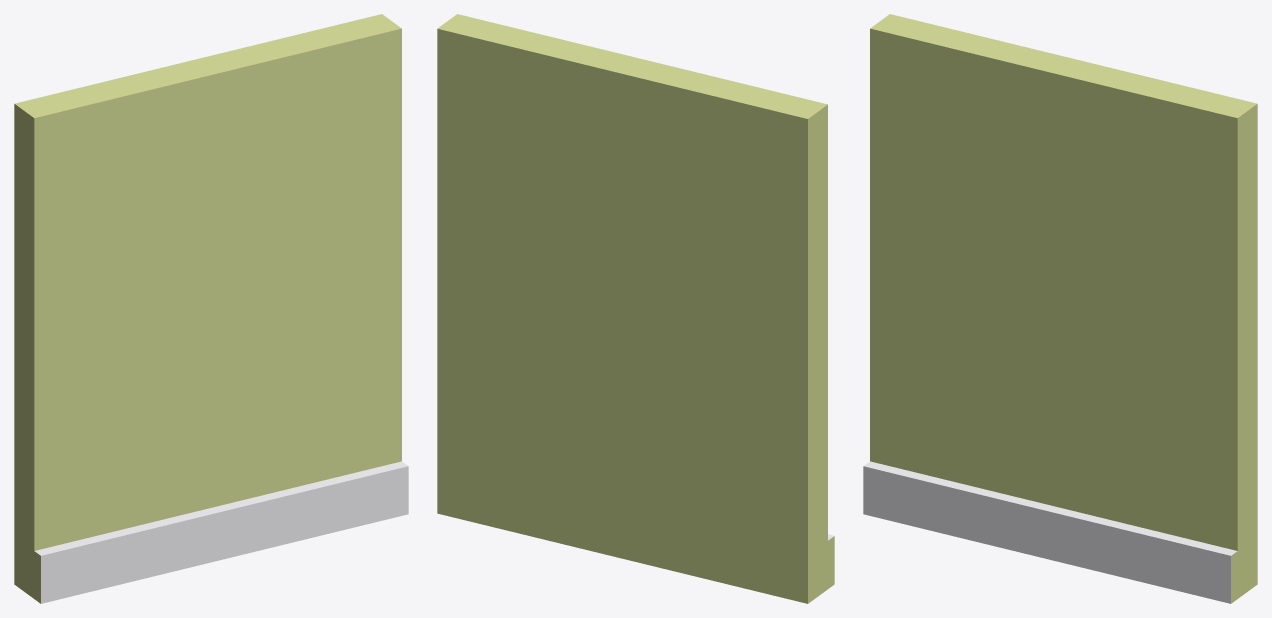
File: WallEdge.glb
3 renders of one model, left to right at view 1: azimuth 30°, elevation 25°; view 2: azimuth 150°, elevation 25°; view 3: azimuth 330°, elevation 25°, orthographic.
Visible parts, largest first — view 1: WallEdge; view 2: WallEdge; view 3: WallEdge.
Boxes of the visible parts, bbox=[...] form: WallEdge: bbox=[14, 14, 408, 603]; WallEdge: bbox=[437, 14, 834, 603]; WallEdge: bbox=[863, 14, 1257, 603].
Bounding box in the file's own units: 32 × 40 × 4.
